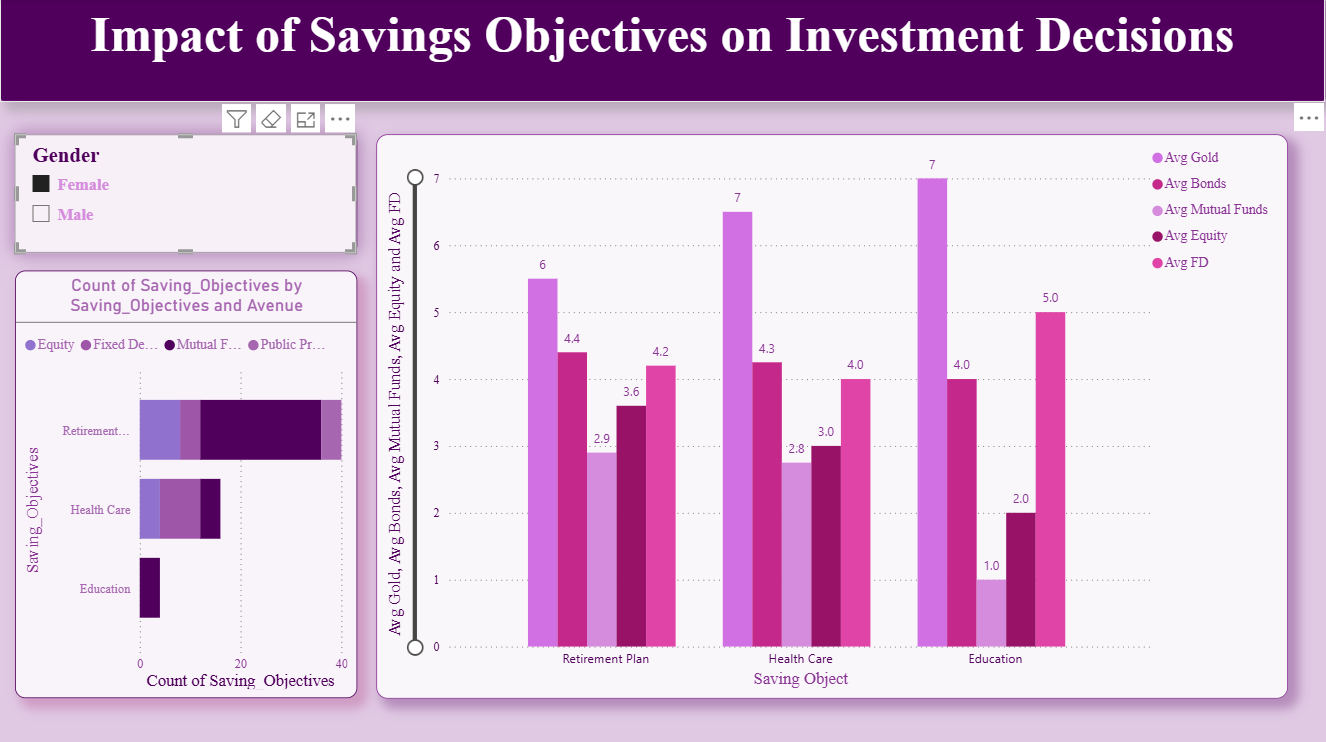

The dashboard page shown, as its layout file describes it:
{"tool":"powerbi","page":{"name":"Page 3","canvas":[1280,720],"ordinal":2},"visuals":[{"type":"textbox","box":[0,0,1279.3,99.7],"z":0},{"type":"slicer","fields":{"Values":["Data_set 2.gender"]},"box":[14.1,131.7,330.2,114.2],"z":1000},{"type":"clusteredColumnChart","fields":{"Category":["Data_set 2.Saving_Objectives"],"Y":["Data_set 2.Avg Gold","Data_set 2.Avg Bonds","Data_set 2.Avg Mutual Funds","Data_set 2.Avg Equity","Data_set 2.Avg FD"]},"box":[363.6,131.7,879.9,544.5],"z":2000},{"type":"barChart","fields":{"Y":["CountNonNull(Data_set 2.Saving_Objectives)"],"Series":["Data_set 2.Avenue"],"Category":["Data_set 2.Saving_Objectives"]},"box":[14.1,263.4,330.2,412.7],"z":3000}]}

Visuals, with their boxes in screenshot pixels (x1, y1, x2, y2), scaled from the page's 1280x720 canvas onto the 1326x742 screenshot:
textbox: {"left": 0, "top": 0, "right": 1325, "bottom": 103}
slicer - Data_set 2.gender: {"left": 15, "top": 136, "right": 357, "bottom": 253}
clusteredColumnChart - Data_set 2.Saving_Objectives x Data_set 2.Avg Gold: {"left": 377, "top": 136, "right": 1288, "bottom": 697}
barChart - CountNonNull(Data_set 2.Saving_Objectives) x Data_set 2.Avenue: {"left": 15, "top": 271, "right": 357, "bottom": 697}
